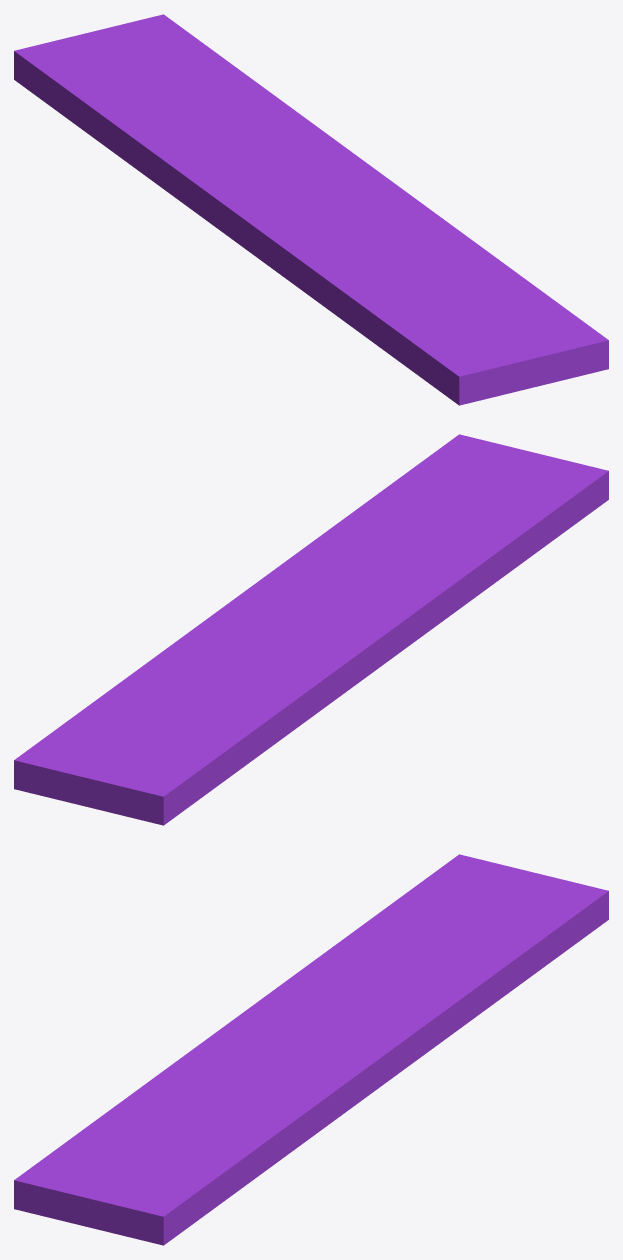
The model's file is StairsStep_80_chunks.fbx.
3 renders of one model, top to bottom at view 1: azimuth 30°, elevation 25°; view 2: azimuth 150°, elevation 25°; view 3: azimuth 330°, elevation 25°, orthographic.
Visible parts, largest first — view 1: StairsStep_80_2, StairsStep_80_0, StairsStep_80_1, StairsStep_80_3; view 2: StairsStep_80_2, StairsStep_80_0, StairsStep_80_1, StairsStep_80_3; view 3: StairsStep_80_2, StairsStep_80_0, StairsStep_80_1, StairsStep_80_3.
Part boxes in pixels (x1=…): StairsStep_80_2: x1=250, y1=200, x2=608, y2=405; StairsStep_80_0: x1=14, y1=22, x2=307, y2=252; StairsStep_80_1: x1=130, y1=14, x2=341, y2=168; StairsStep_80_3: x1=295, y1=145, x2=436, y2=214; StairsStep_80_2: x1=287, y1=434, x2=608, y2=651; StairsStep_80_0: x1=48, y1=614, x2=405, y2=825; StairsStep_80_1: x1=14, y1=630, x2=264, y2=802; StairsStep_80_3: x1=192, y1=560, x2=323, y2=634; StairsStep_80_2: x1=14, y1=1031, x2=352, y2=1245; StairsStep_80_0: x1=218, y1=854, x2=574, y2=1036; StairsStep_80_1: x1=358, y1=882, x2=608, y2=1090; StairsStep_80_3: x1=299, y1=1016, x2=430, y2=1106.
Size of the model in its own units: 157 by 28.98 by 810.
